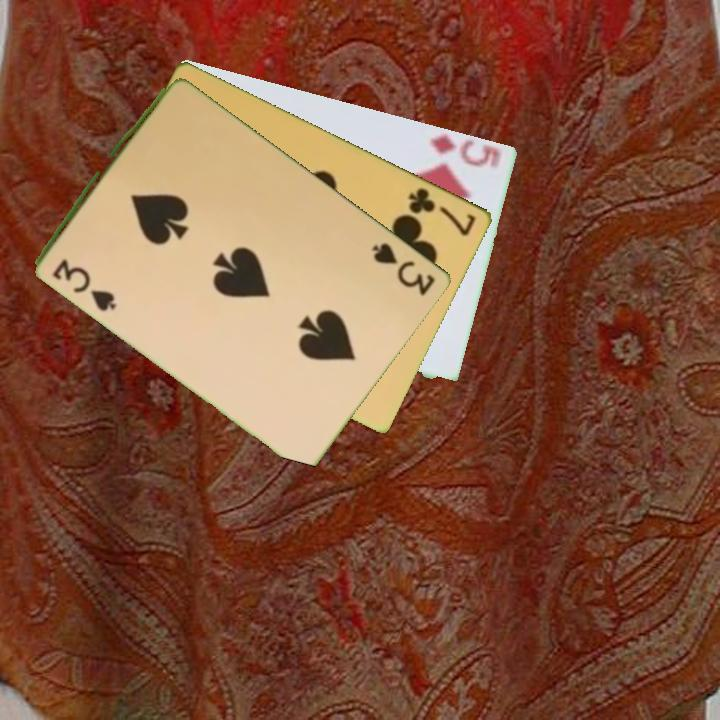3s: (368, 238, 439, 299), (49, 255, 118, 315)
5d: (427, 131, 505, 170)
7c: (405, 184, 480, 239)
